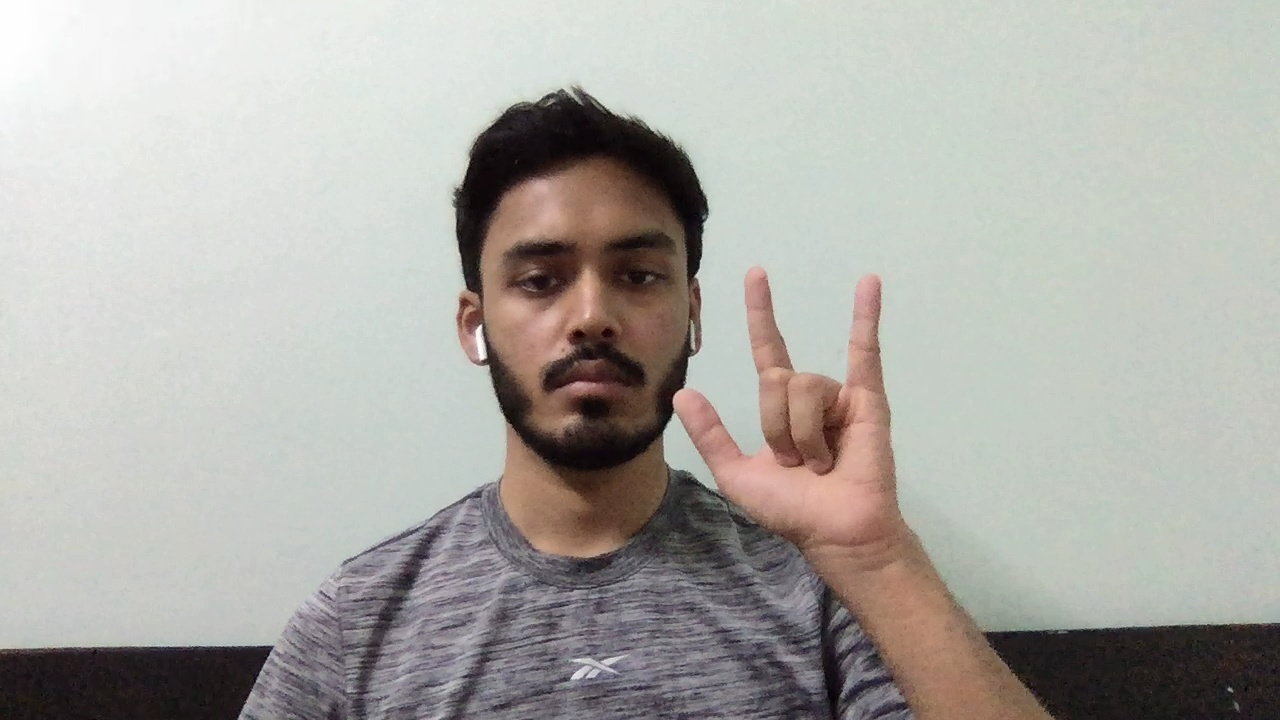I Love You: (667, 250, 930, 538)
